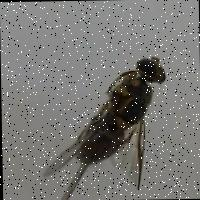Oriental-fruit-fly: (36, 45, 172, 196)
